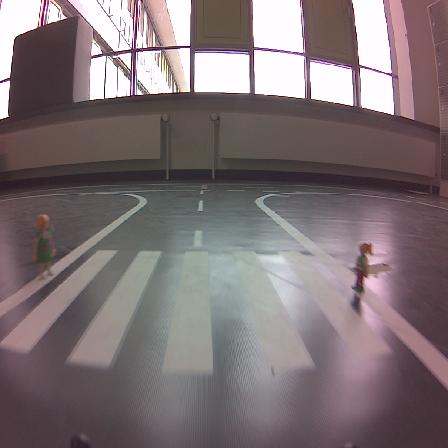CHILD: (352, 243, 372, 292)
PERSON: (33, 214, 55, 278)
